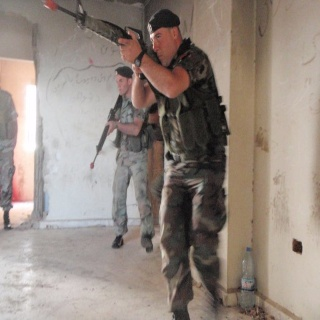rifle: (41, 1, 160, 65), (89, 93, 127, 170)
